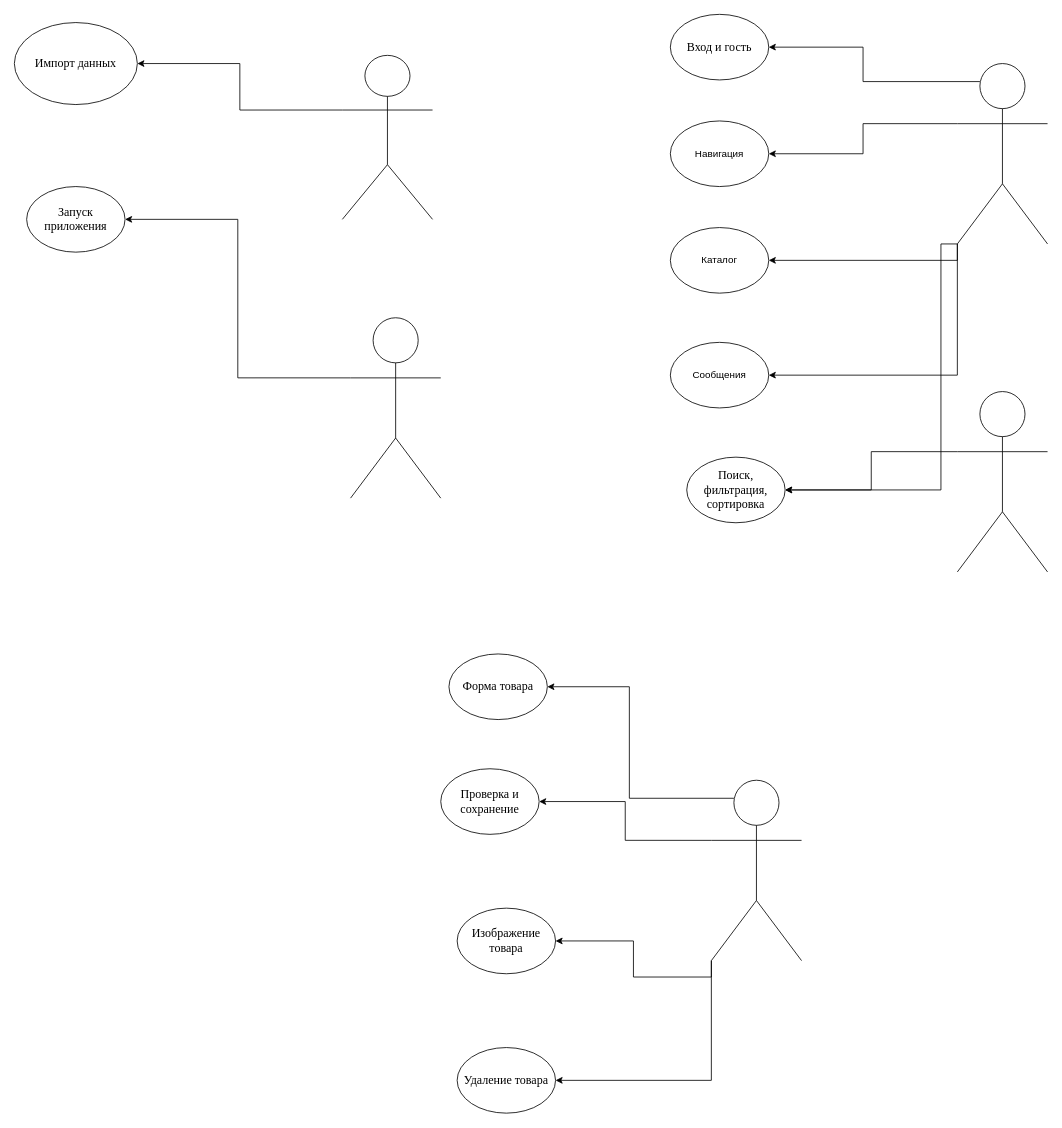
Image size: 1062x1128. Some labels were removed from this diagram. Here are the shapes that lost their labels. From the top down, the centre of each, then its label:
the point at 387,137: Оператор загрузки
the point at 1002,153: Покупатель
the point at 395,407: Пользователь
the point at 1002,481: Менеджер
the point at 756,870: Администратор
